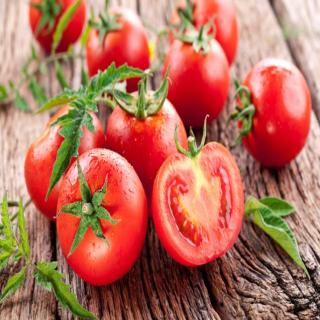Tomat: (152, 115, 246, 267), (54, 147, 149, 287), (228, 58, 313, 169)
